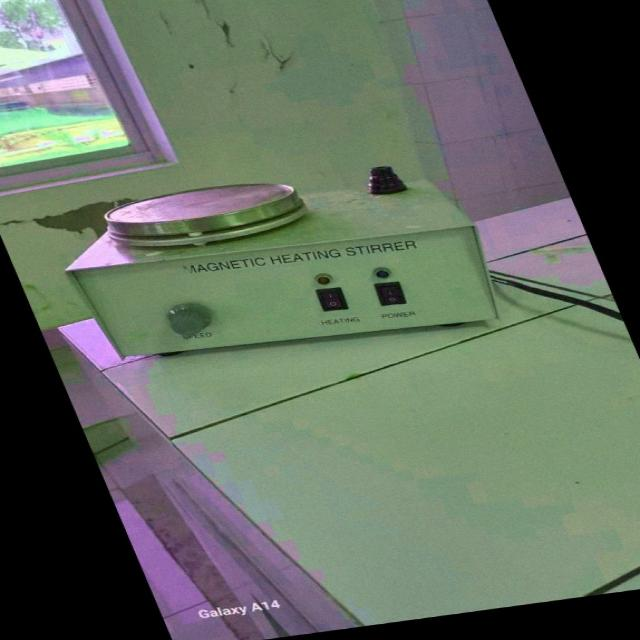Magnetic Stirrer: (41, 155, 522, 384)
